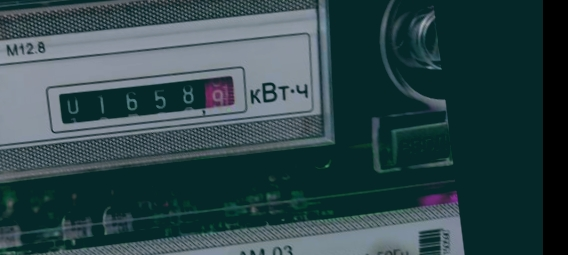0: (65, 94, 80, 117)
1: (95, 93, 108, 116)
5: (152, 87, 168, 111)
6: (123, 89, 139, 113)
8: (179, 82, 196, 106)
9: (208, 88, 225, 111)
screen: (39, 57, 257, 143)
